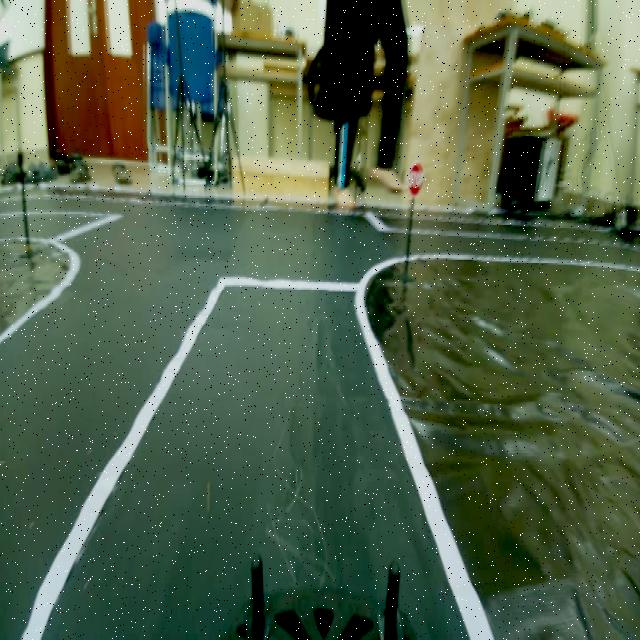stop: (407, 160, 424, 196)
